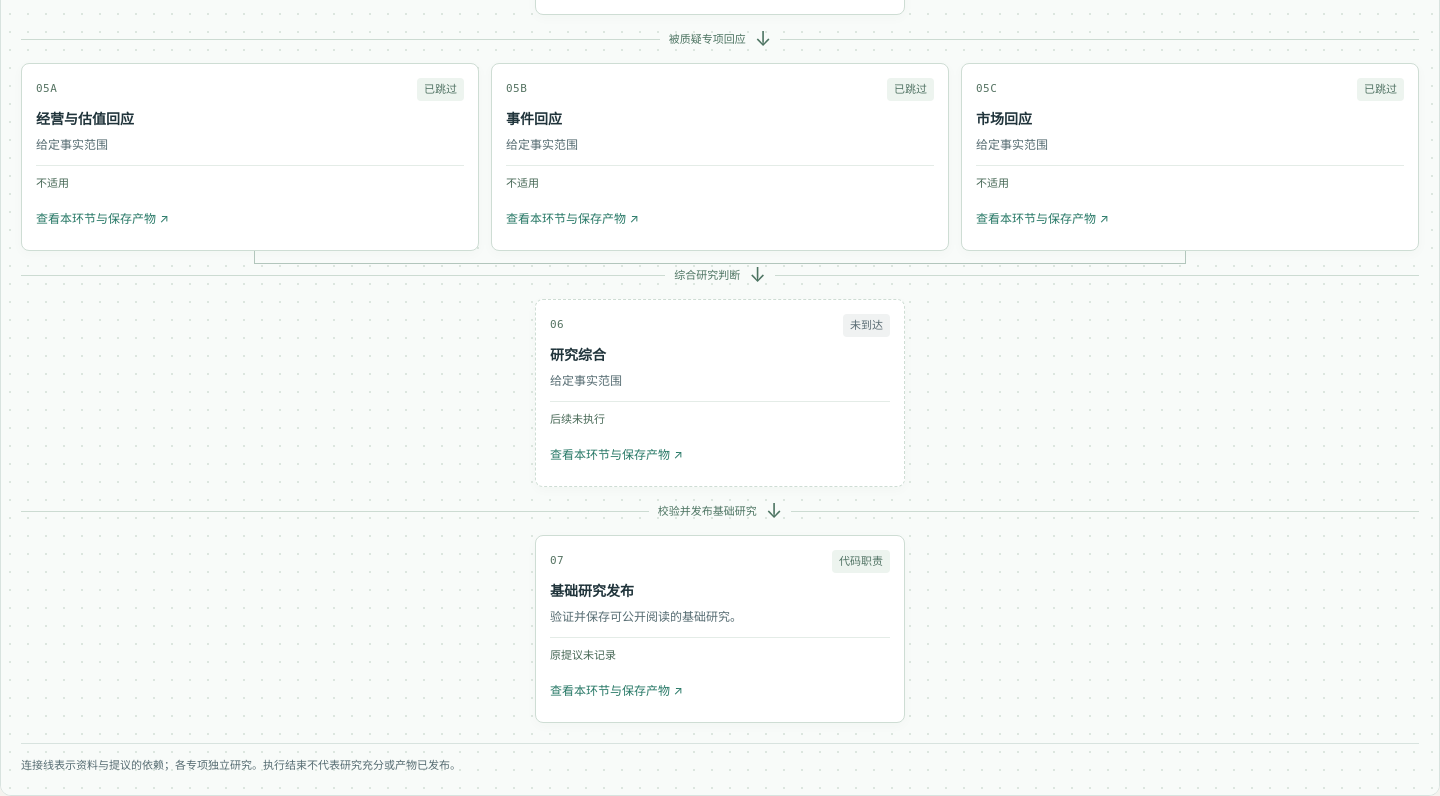
it: truthful dependency flow › uses two code positions with shared selection and only one displayed count
The width and height of the screenshot is (1440, 796).
(page scrolled)
Click the button with aria-label "查看基础研究发布环节与保存产物".
click(612, 690)  # box [550,674,890,708]
(page scrolled)
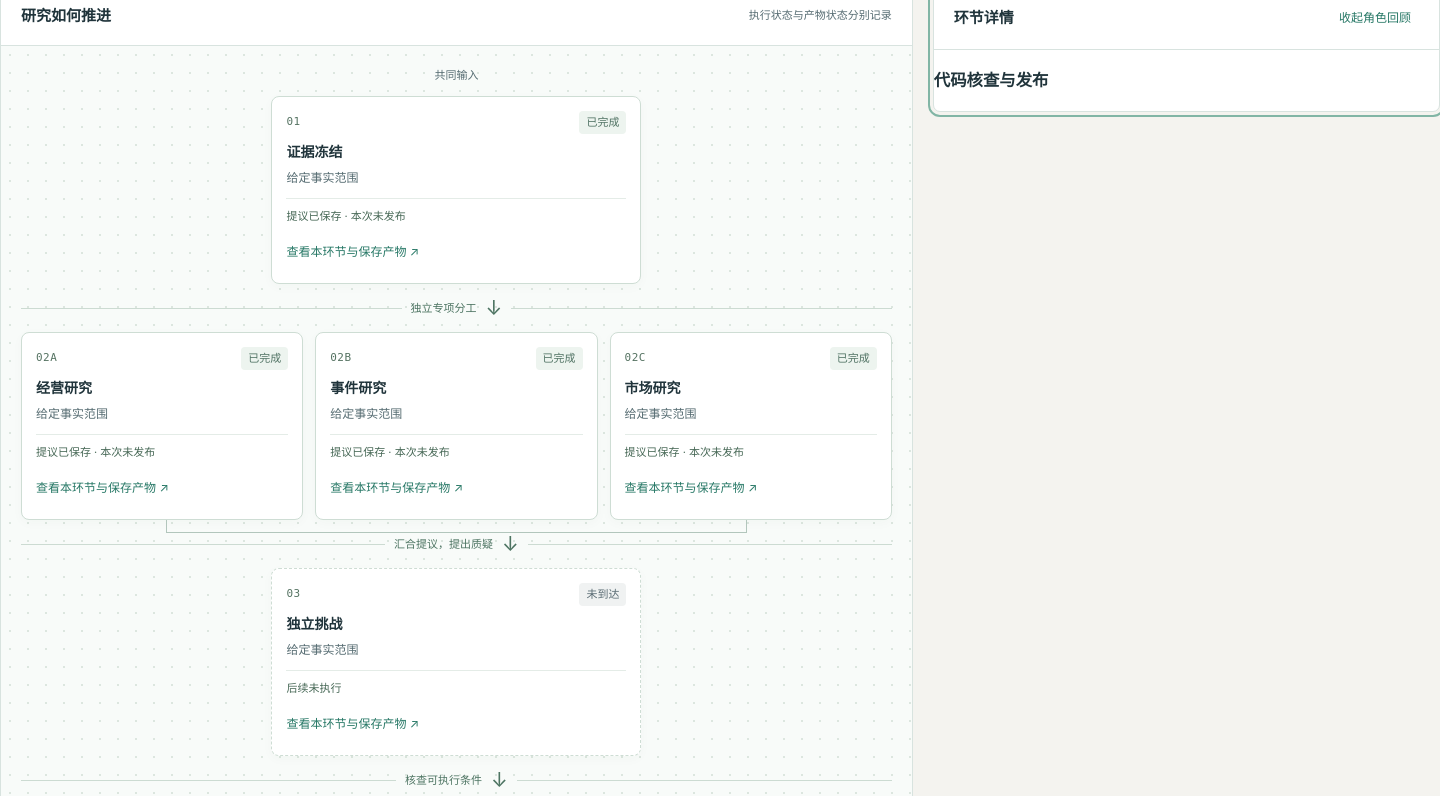
Expected: the element named "所选环节详情" shows "代码核查与发布", [934,70,1048,90]
